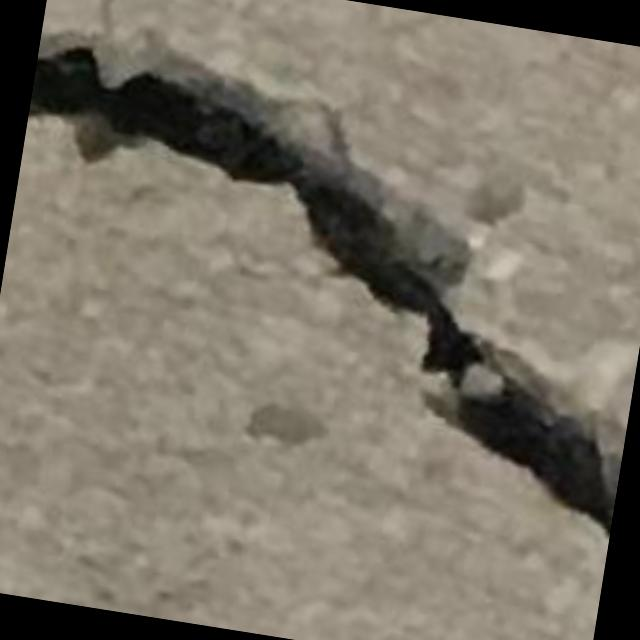crack: (29, 23, 625, 534)
